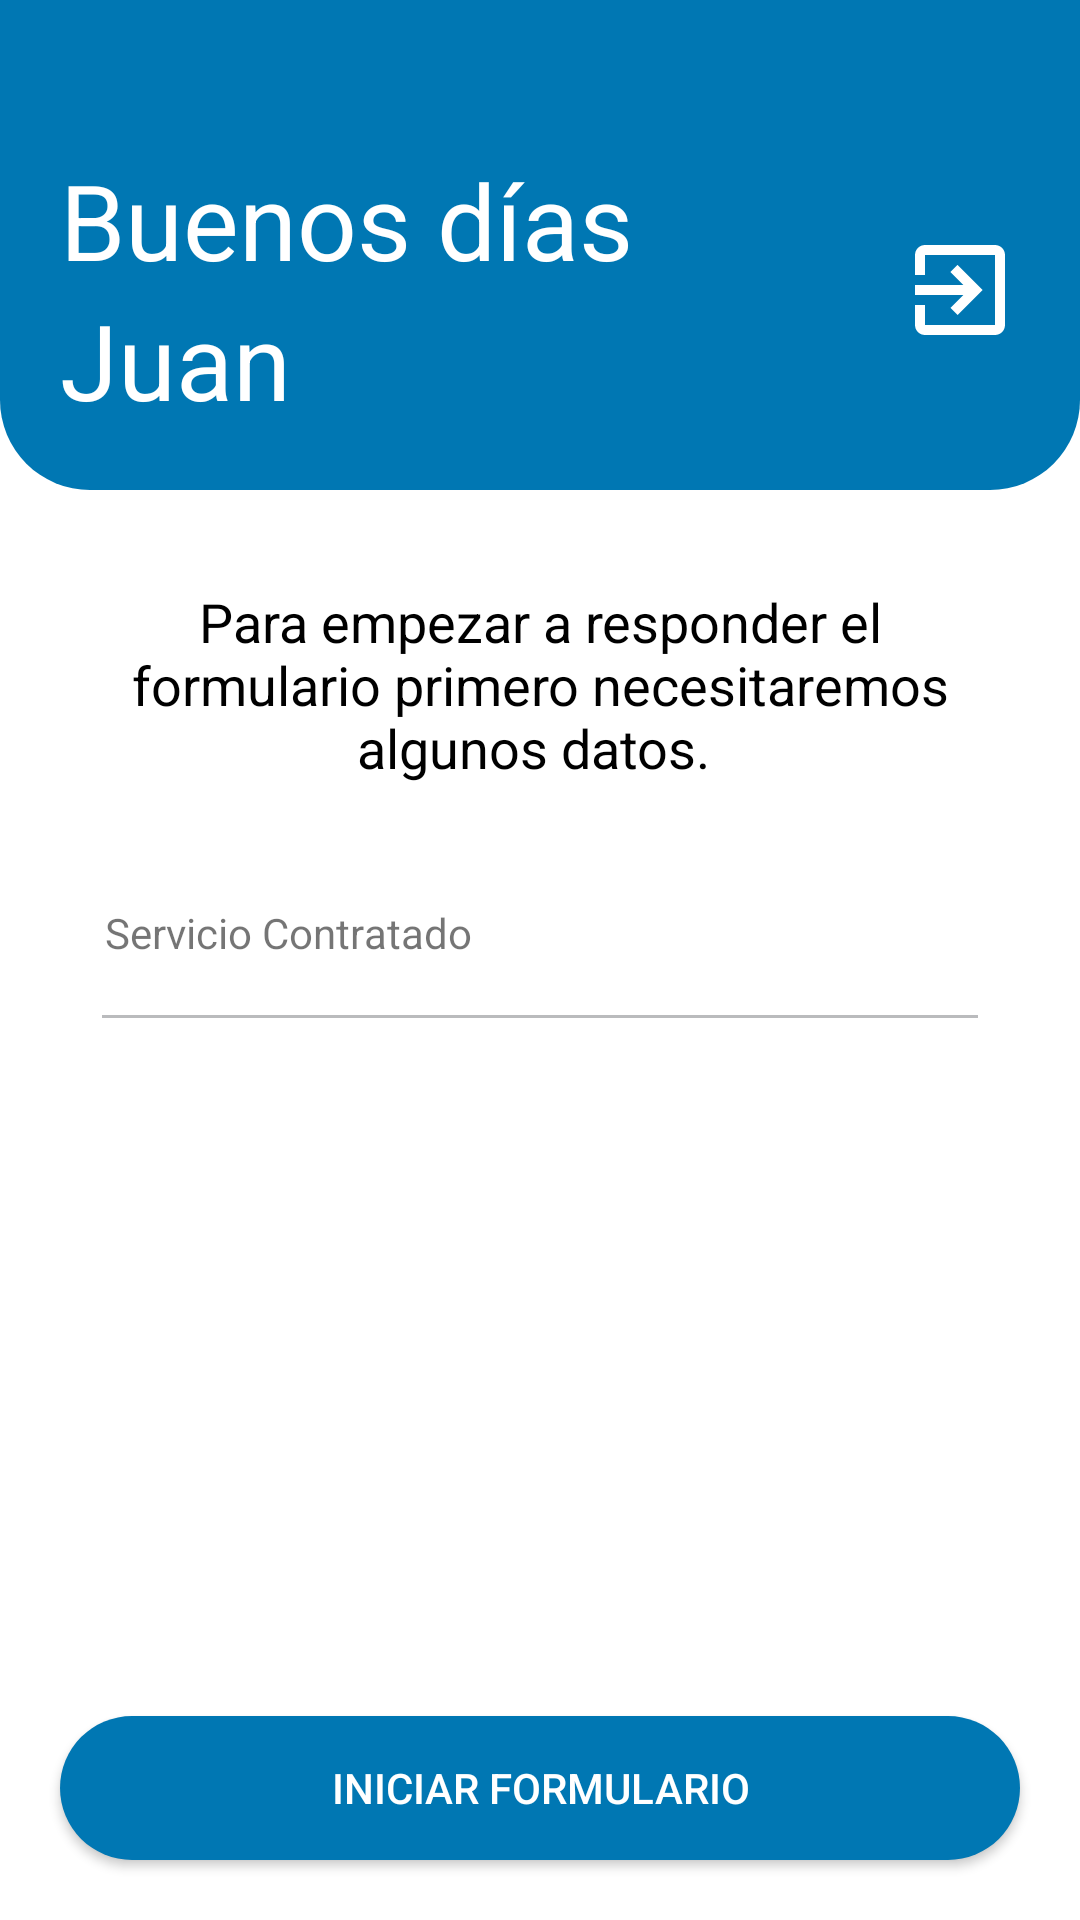

Where to tap for icons on this 1080*1920 app screen, as [x,y]:
exit: [960,290]
